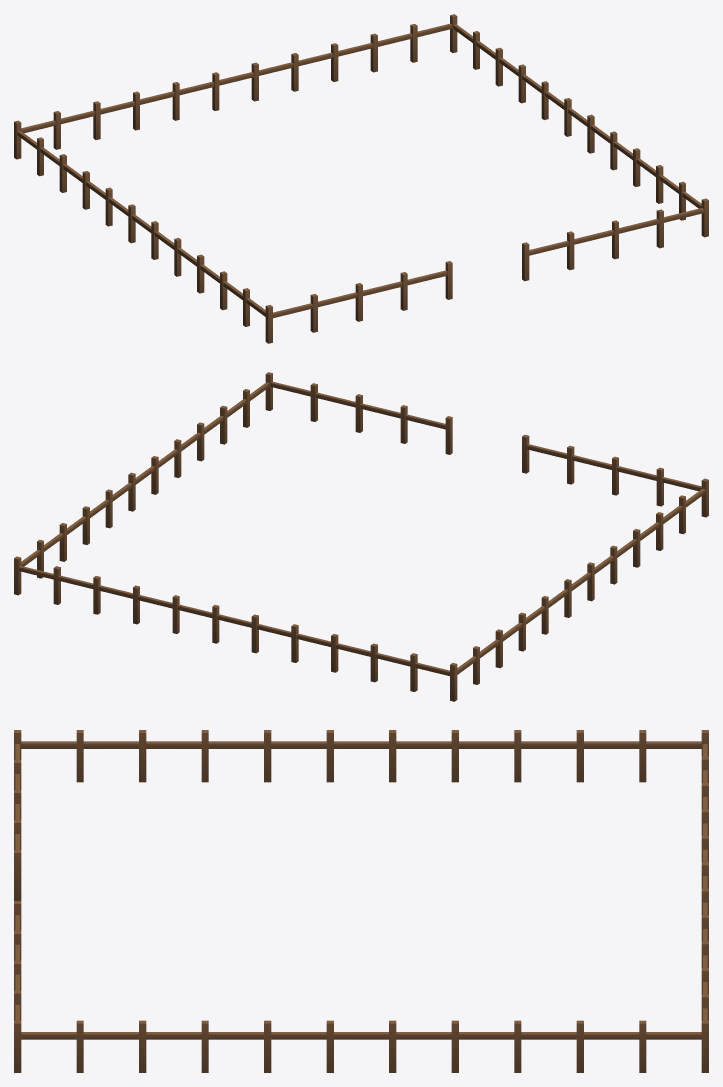
File: wall_ME_0.glb
3 renders of one model, top to bottom at view 1: azimuth 30°, elevation 25°; view 2: azimuth 150°, elevation 25°; view 3: azimuth 270°, elevation 25°, orthographic. The views are drawn at different scales.
Parts seen in each view (by area): view 1: Body; view 2: Body; view 3: Body.
Part boxes in pixels (x1=…): Body: x1=14, y1=14, x2=708, y2=343; Body: x1=14, y1=372, x2=708, y2=701; Body: x1=14, y1=730, x2=708, y2=1072.
Bounding box in the file's own units: 5.76 × 0.45 × 5.76.
Materials: 1 (1 with a texture image).
